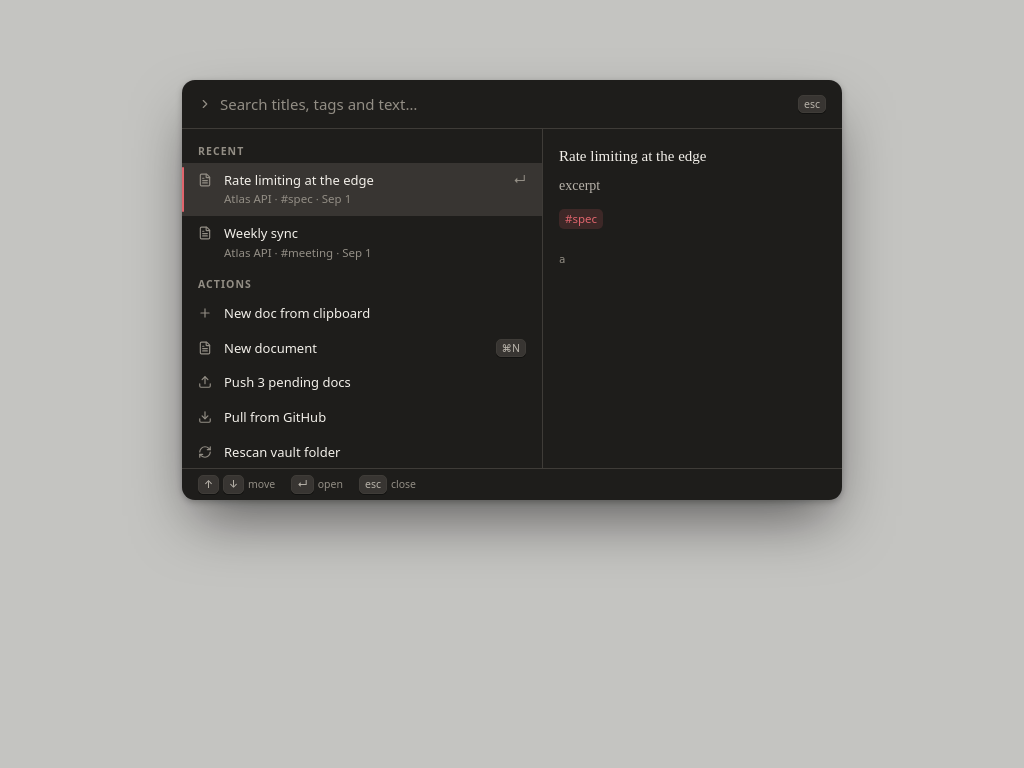
Test: CommandPalette › a filtered search still shows the full list, not the Recent glance
Type "source:chatgpt" into the dropdown labelled "Search" at (505, 104), box x1=220 y1=80 x2=790 y2=128
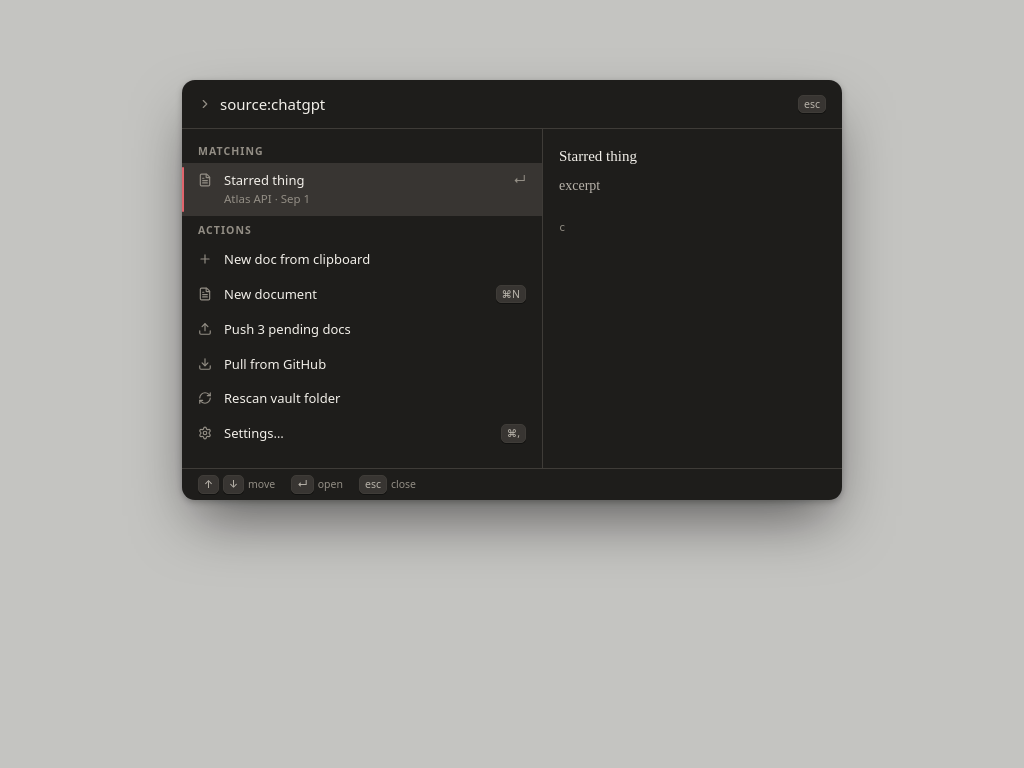
Result: the text "Matching" is shown at x1=198 y1=144 x2=264 y2=158
Result: the text "Starred thing" below "Matching" is shown at x1=224 y1=171 x2=304 y2=189
